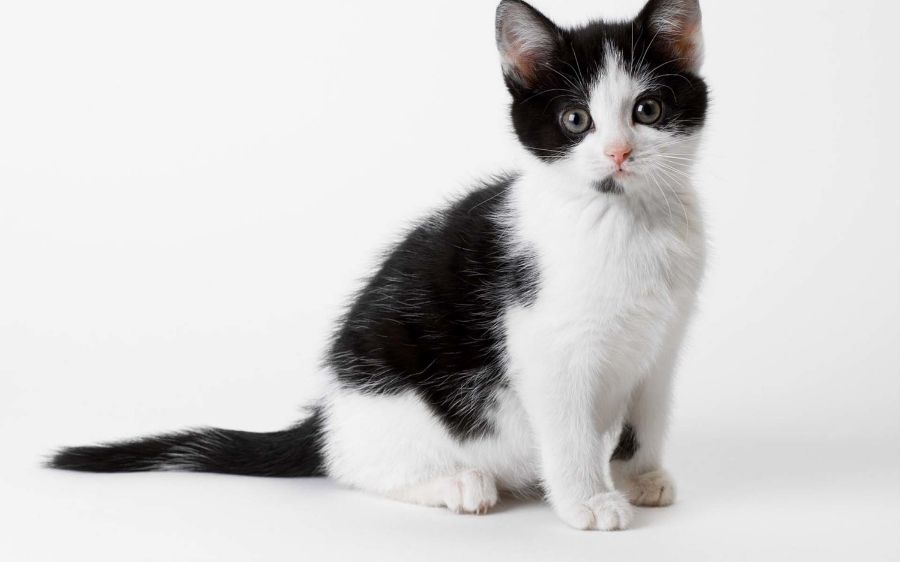cat: (78, 3, 719, 539)
